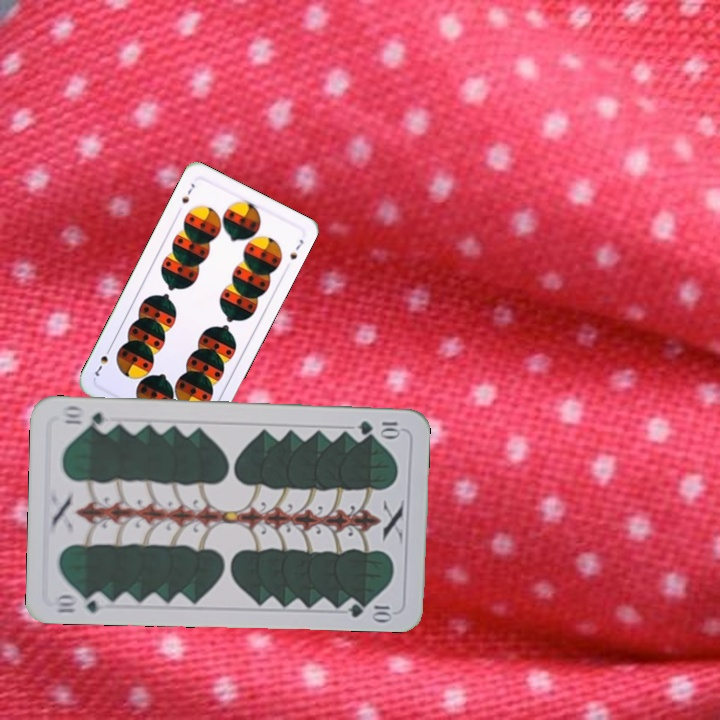G10: (50, 589, 109, 616), (354, 417, 404, 438)
S7: (177, 179, 197, 206)
